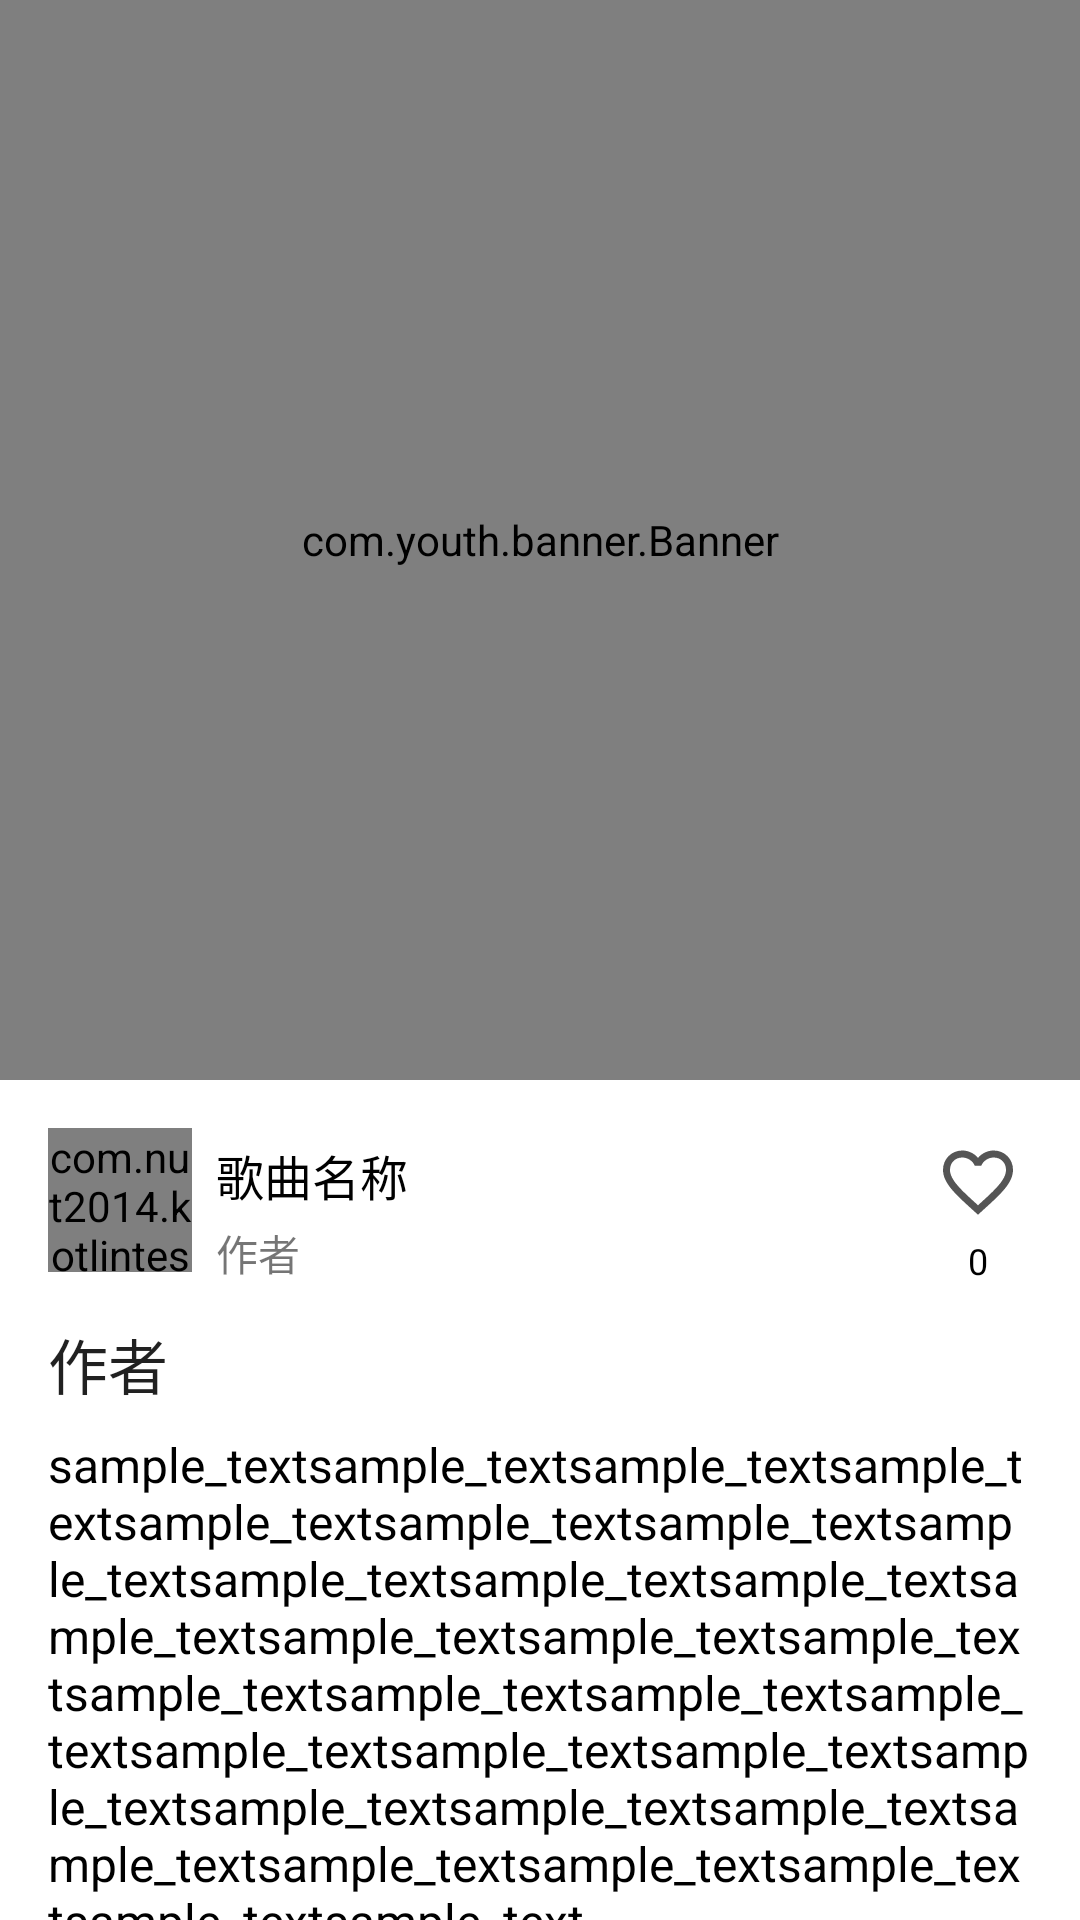

Screen size 1080*1920. Icon name, then its box in pixels as (x1, y1, x2, y2):
favorite border: (943, 1150, 1013, 1215)
